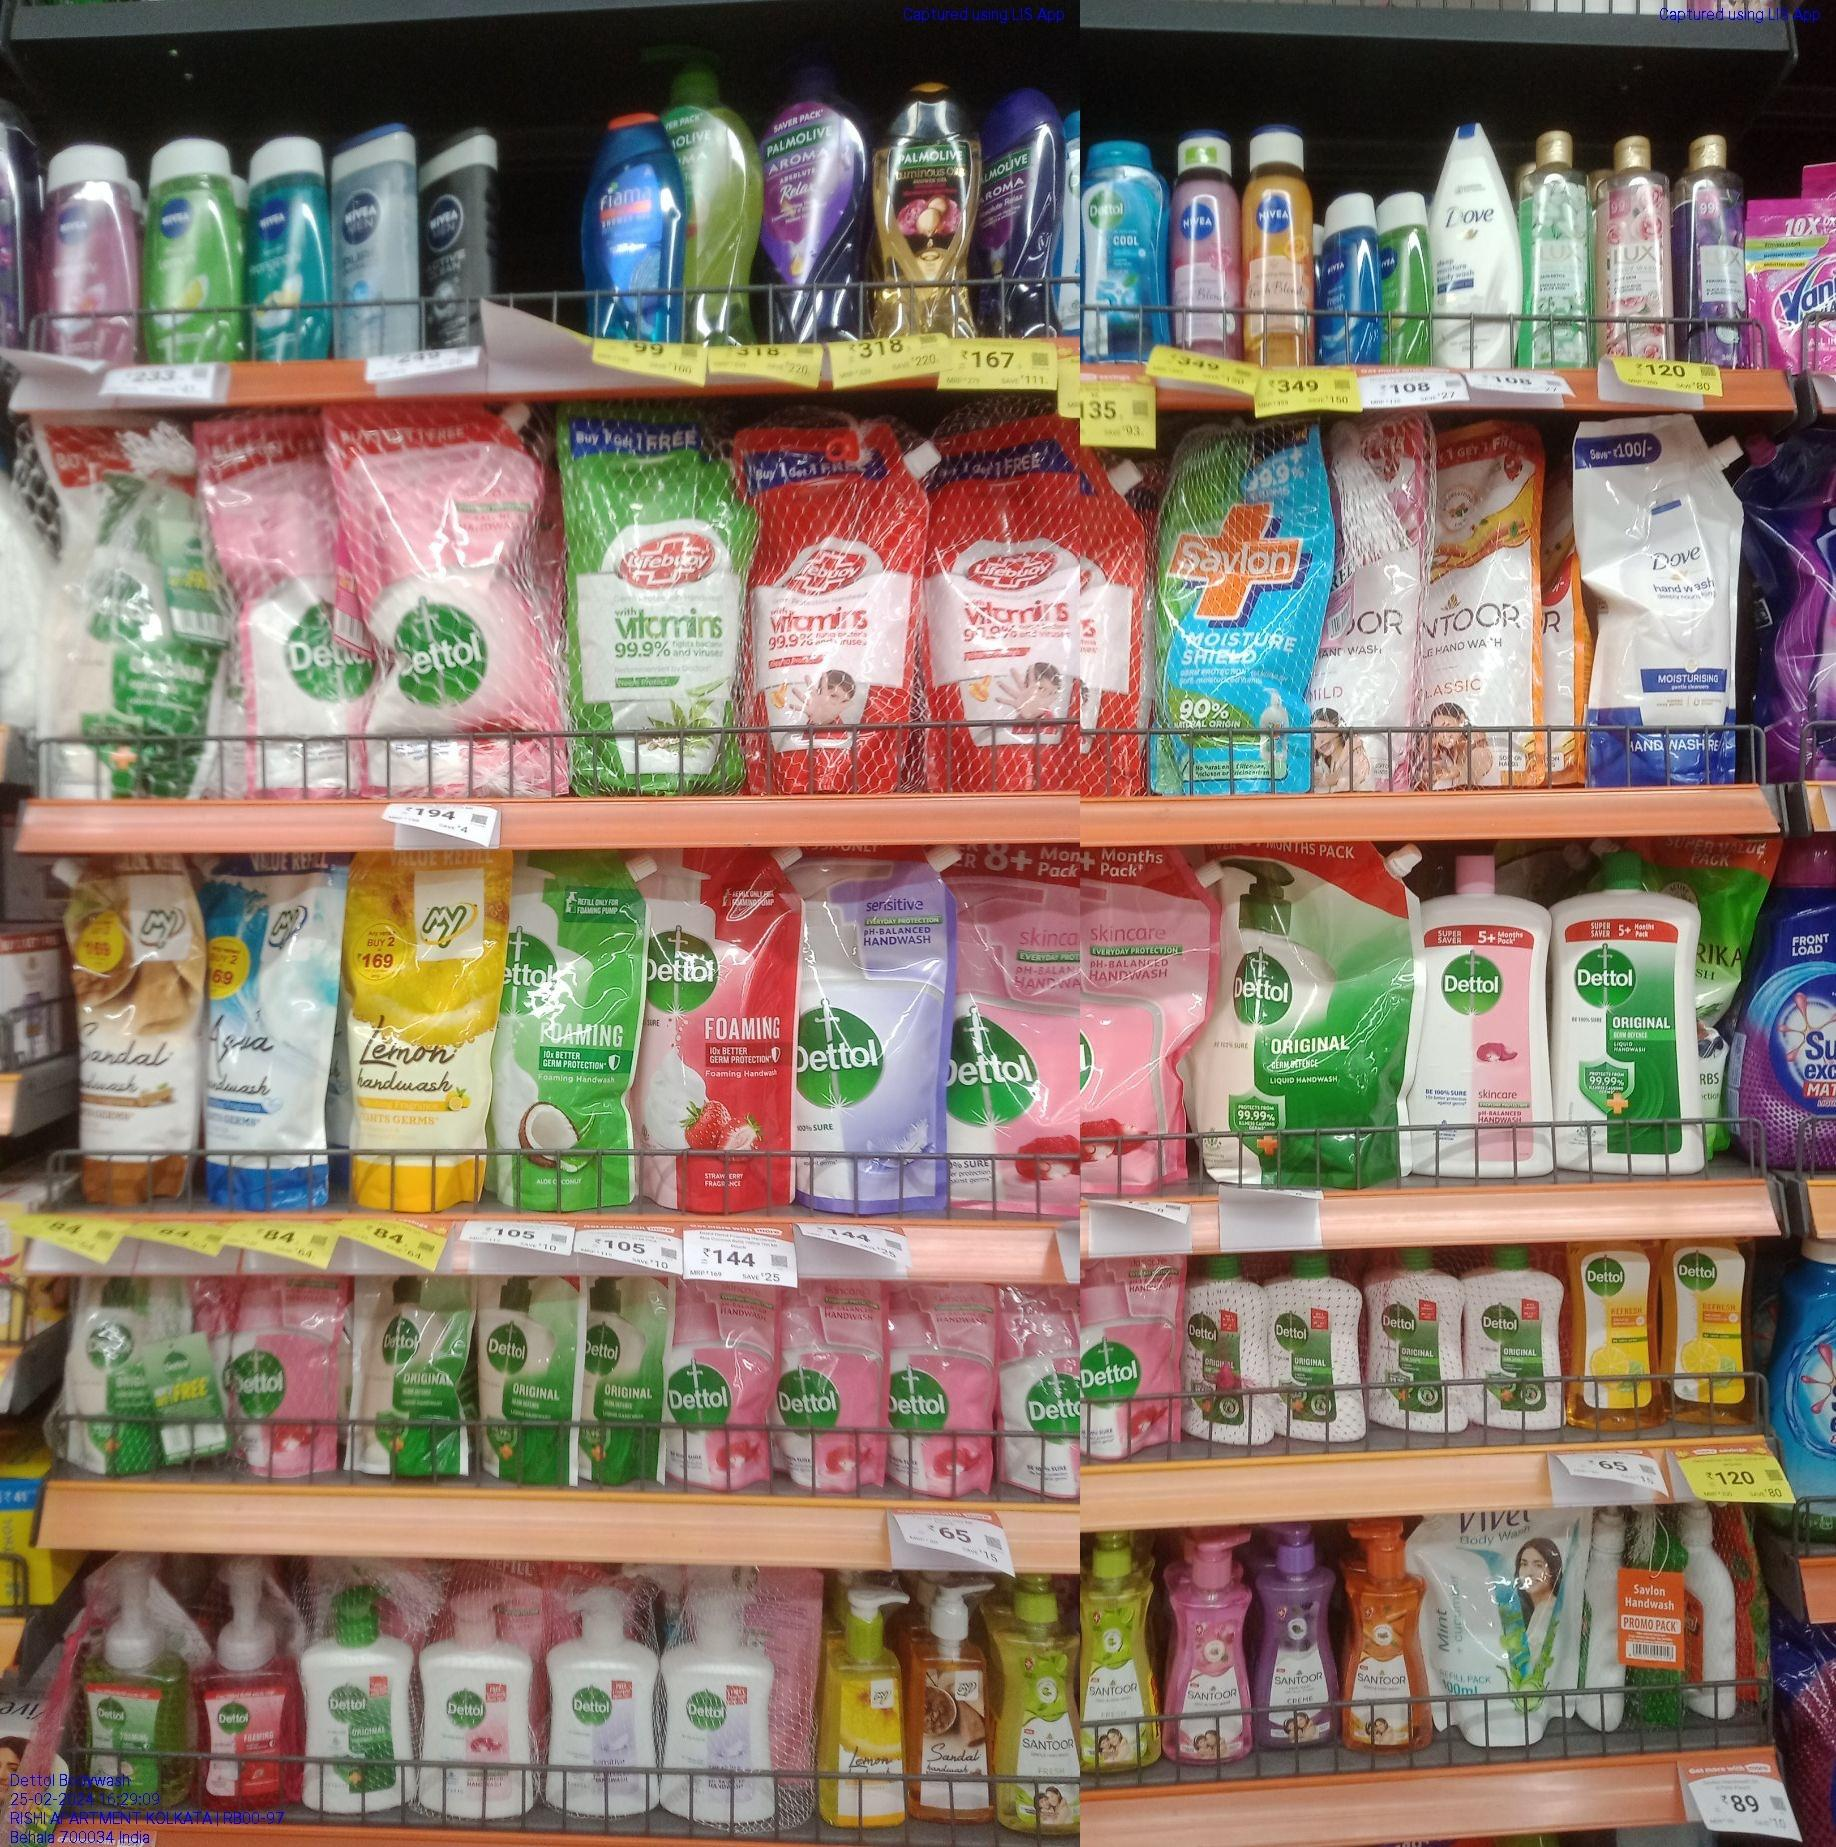Dove_Deep_Moisture_Body_Wash_250ML: (1439, 121, 1518, 365)
Lux_Body_Wash_Skin_Detox_Freesia_Scent_and_Alove_Vera_245ML: (1525, 131, 1589, 365)
Nivea_Shower_Gel_Frangipani_and_Oil_250ML: (251, 134, 335, 351)
Nivea_Shower_Gel_Lemon_and_Oil_250ML: (145, 131, 242, 360)
Nivea_Shower_Gel_Waterlily_and_Oil_250ML: (47, 141, 131, 358)
